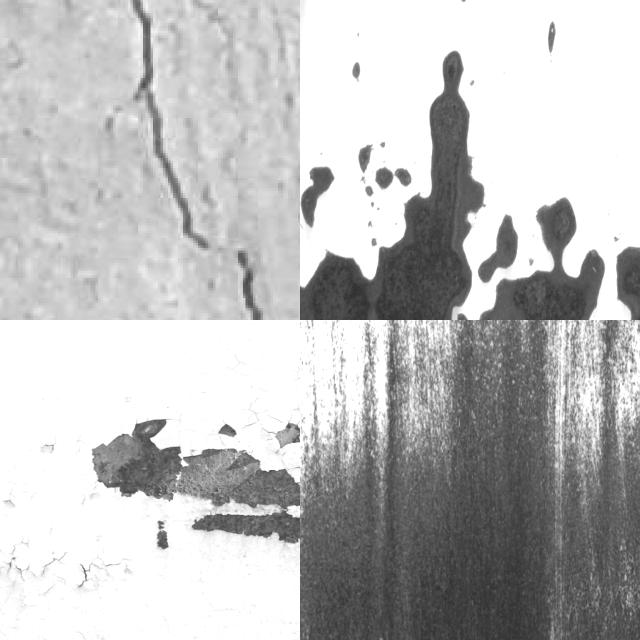Crack: (129, 0, 206, 248), (238, 250, 258, 320)
Uniform Corrosion: (300, 320, 640, 640), (300, 51, 640, 320), (175, 449, 300, 508), (92, 420, 181, 497), (192, 510, 300, 543), (301, 167, 334, 227), (358, 144, 372, 172)
